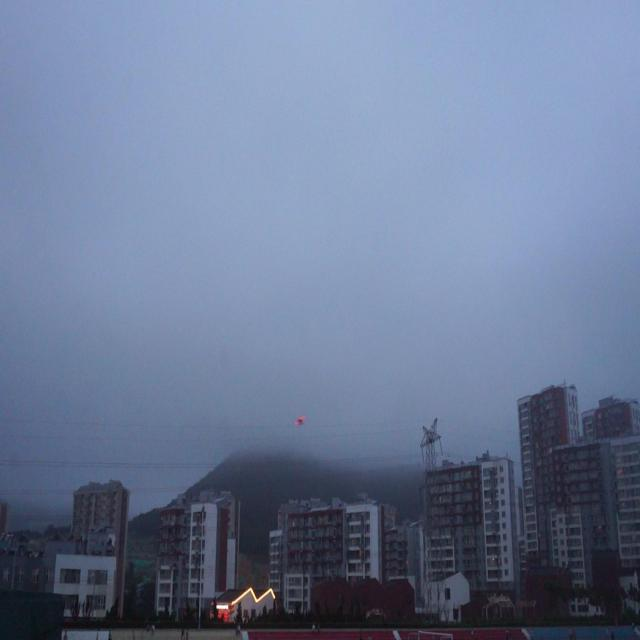UAV: (295, 415, 306, 425)
